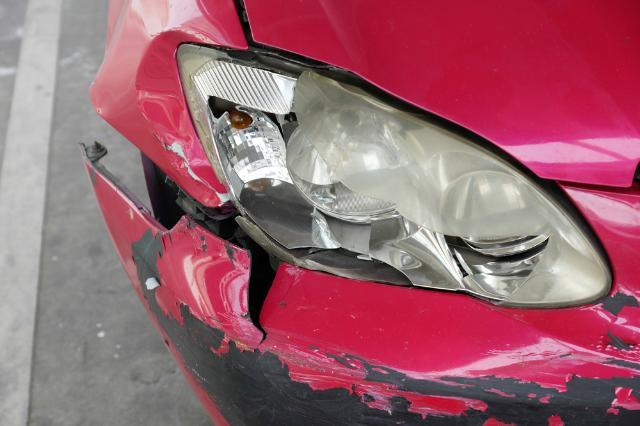crack: (243, 254, 282, 347)
dent: (135, 28, 228, 193)
lamp broken: (178, 43, 616, 310)
scratch: (131, 222, 640, 426)
